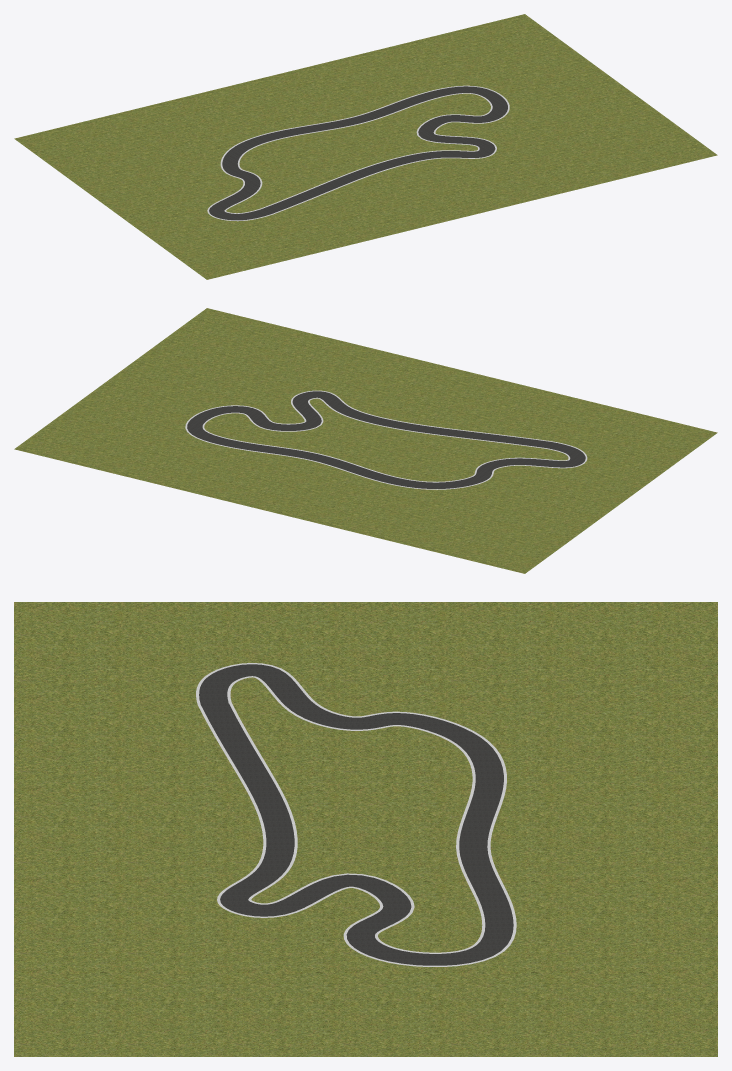
The model's file is standard_track.dae.
The picture shows the model from 3 angles, top to bottom: view 1: azimuth 30°, elevation 25°; view 2: azimuth 150°, elevation 25°; view 3: azimuth 270°, elevation 25°; orthographic projection. The views are drawn at different scales.
Parts seen in each view (by area): view 1: field, road, outer, inner; view 2: field, road, outer, inner; view 3: field, road, outer, inner.
Part boxes in pixels (left/top/right/bottom): field: left=14, top=14, right=717, bottom=279; road: left=209, top=86, right=507, bottom=220; outer: left=207, top=85, right=509, bottom=221; inner: left=224, top=93, right=492, bottom=213; field: left=14, top=308, right=717, bottom=573; road: left=187, top=391, right=585, bottom=488; outer: left=185, top=390, right=587, bottom=489; inner: left=202, top=397, right=570, bottom=482; field: left=14, top=602, right=717, bottom=1056; road: left=199, top=664, right=513, bottom=965; outer: left=196, top=663, right=516, bottom=966; inner: left=227, top=676, right=485, bottom=953.
Bounding box in the file's own units: 62.36 × 40.8 × 0.01.
3 materials, 3 textured.
